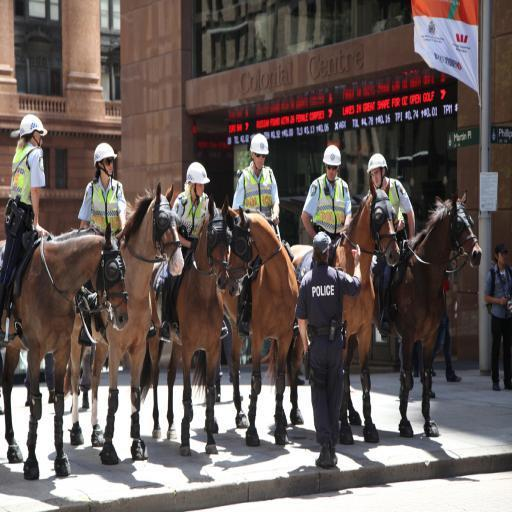horse: (0, 174, 484, 478)
